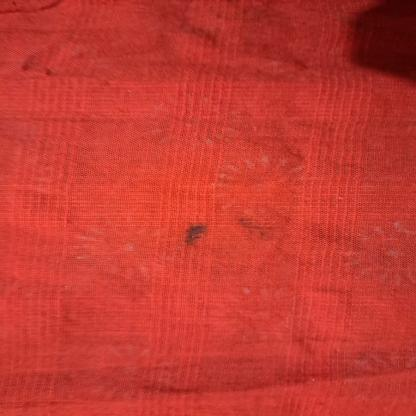spot: (179, 220, 217, 249), (237, 215, 277, 241)
